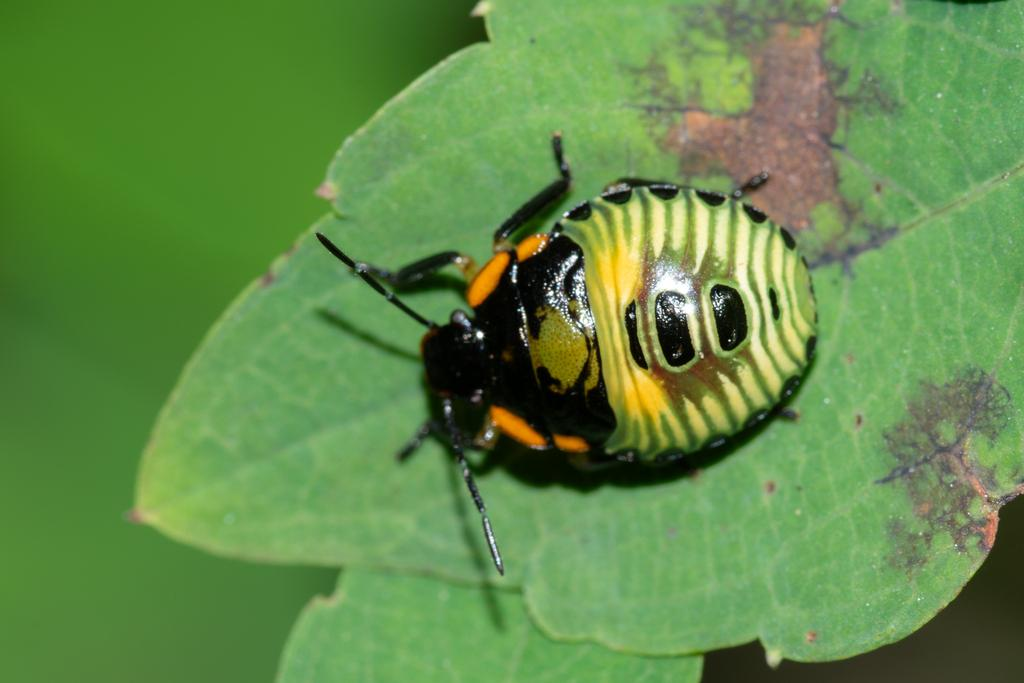stink_bugs: (239, 77, 917, 628)
